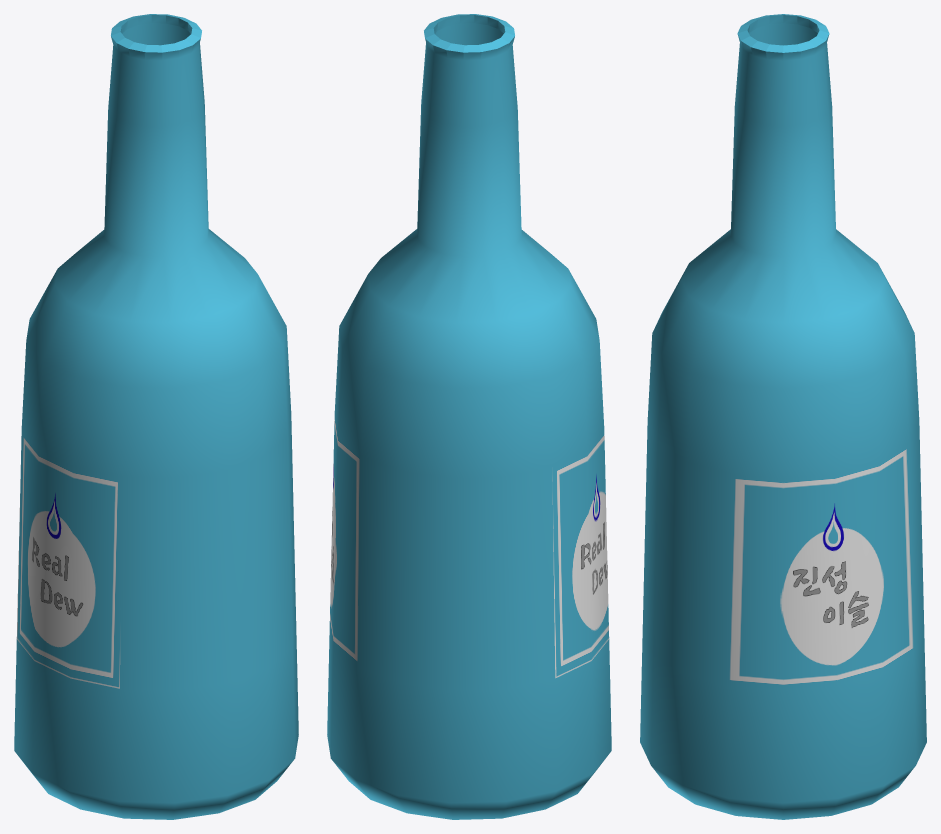
File: Real_Dew_Soju.fbx
3 renders of one model, left to right at view 1: azimuth 30°, elevation 25°; view 2: azimuth 150°, elevation 25°; view 3: azimuth 270°, elevation 25°, orthographic.
Visible parts, largest first — view 1: Soju1; view 2: Soju1; view 3: Soju1.
Part boxes in pixels (x1,y1,x2,y2): Soju1: (14, 14, 298, 819); Soju1: (327, 14, 611, 819); Soju1: (640, 14, 926, 819).
Bounding box in the file's own units: 1.12 × 3.16 × 1.12.
3 materials, 3 textured.
